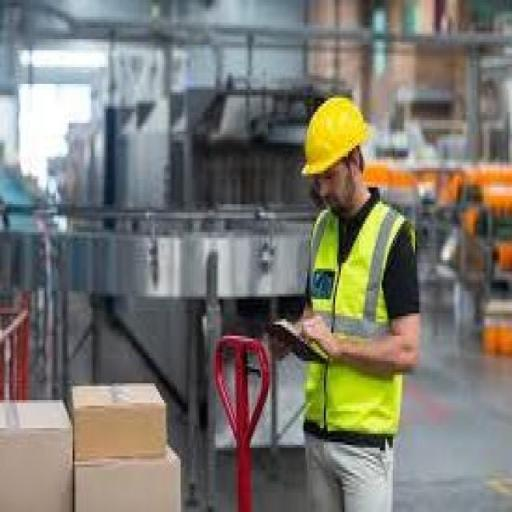Person: (266, 66, 416, 509)
helmet: (286, 92, 376, 176)
vest: (306, 200, 412, 438)
